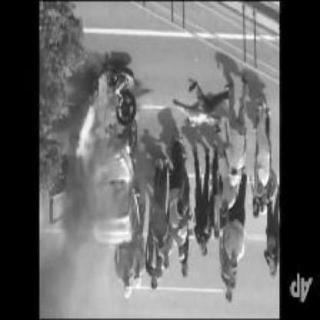Fire: (78, 70, 144, 178)
Smoke: (39, 177, 123, 319)
